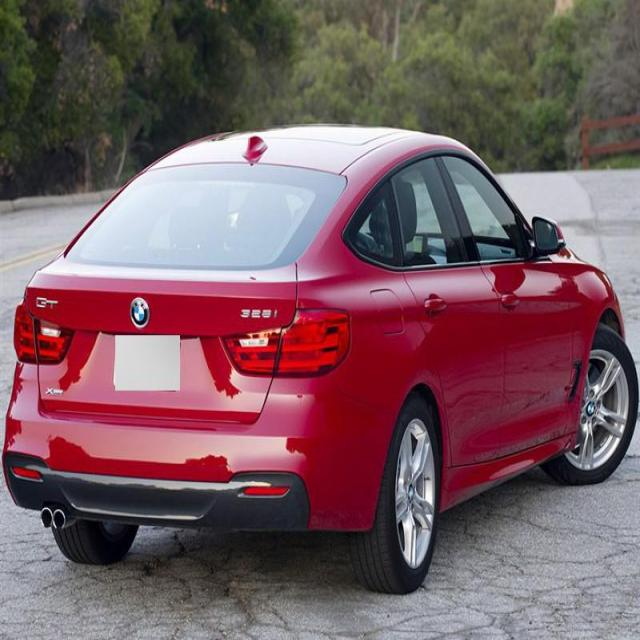back_glass: (62, 157, 350, 274)
back_left_side_light: (11, 300, 75, 367)
back_right_side_light: (220, 306, 354, 381)
door: (386, 152, 506, 480)
front_right_side_door: (438, 142, 576, 468)
front_right_side_mirror: (527, 210, 565, 260)
rear_bumper: (4, 372, 378, 533)
wheel: (353, 396, 439, 593), (543, 322, 639, 485)
